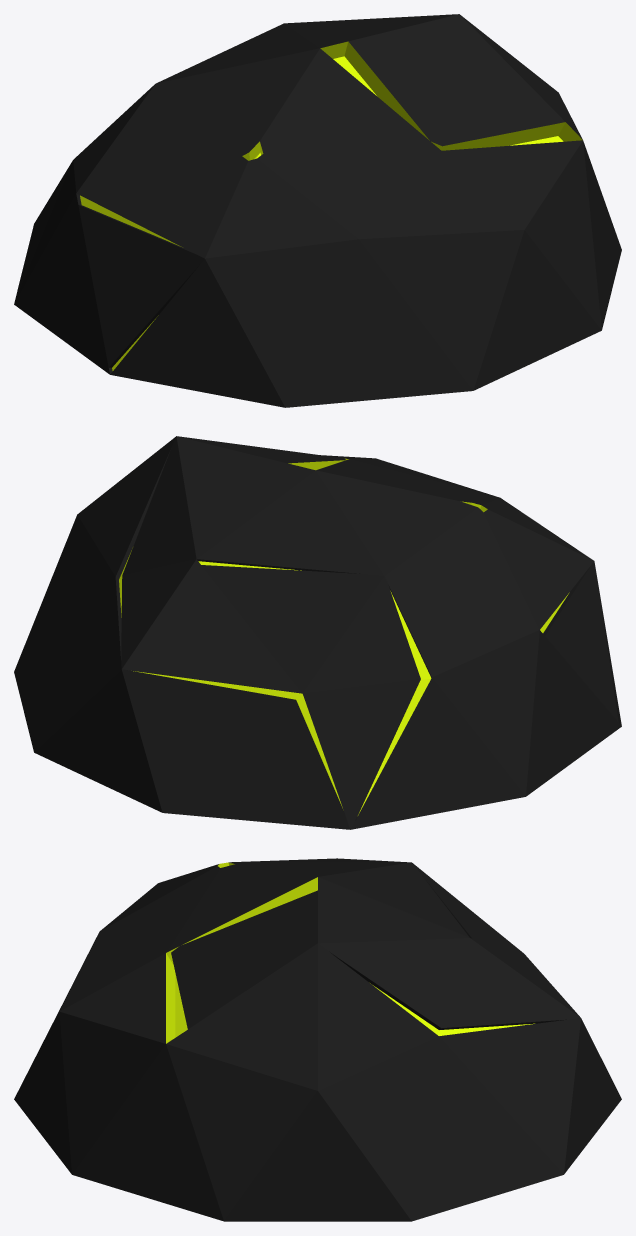
Rendered from pedraamarelaneon.FBX.
The picture shows the model from 3 angles, top to bottom: view 1: azimuth 30°, elevation 25°; view 2: azimuth 150°, elevation 25°; view 3: azimuth 270°, elevation 25°; orthographic projection. The views are drawn at different scales.
Parts seen in each view (by area): view 1: GeoSphere001; view 2: GeoSphere001; view 3: GeoSphere001.
Part boxes in pixels (x1,y1,x2,y2): GeoSphere001: (14, 14, 621, 407); GeoSphere001: (14, 436, 621, 829); GeoSphere001: (14, 858, 621, 1221).
Bounding box in the file's own units: 49.59 × 21.3 × 52.14.
